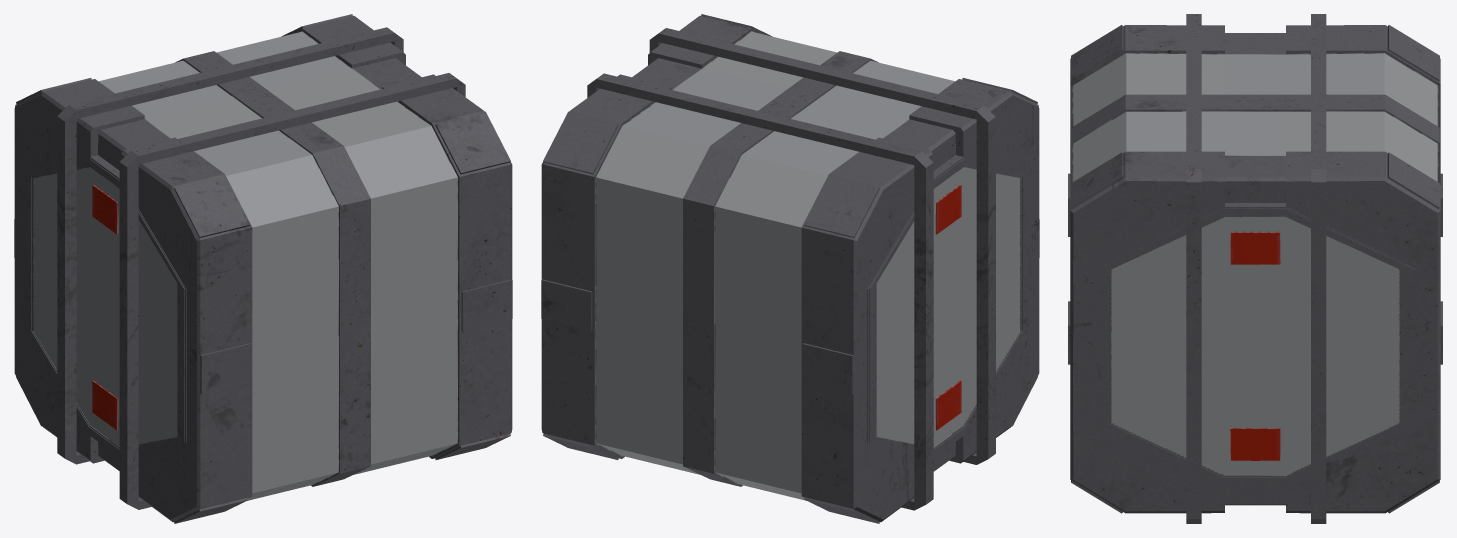
Rendered from Caja_Suministros 1.fbx.
3 views of the same model, side by side, from view 1: azimuth 30°, elevation 25°; view 2: azimuth 150°, elevation 25°; view 3: azimuth 270°, elevation 25° (orthographic).
Visible parts, largest first — view 1: Cubo; view 2: Cubo; view 3: Cubo.
Part boxes in pixels (x1,y1,x2,y2): Cubo: (14, 14, 512, 523); Cubo: (541, 14, 1039, 523); Cubo: (1068, 14, 1442, 523).
Bounding box in the file's own units: 215 × 215 × 206.
